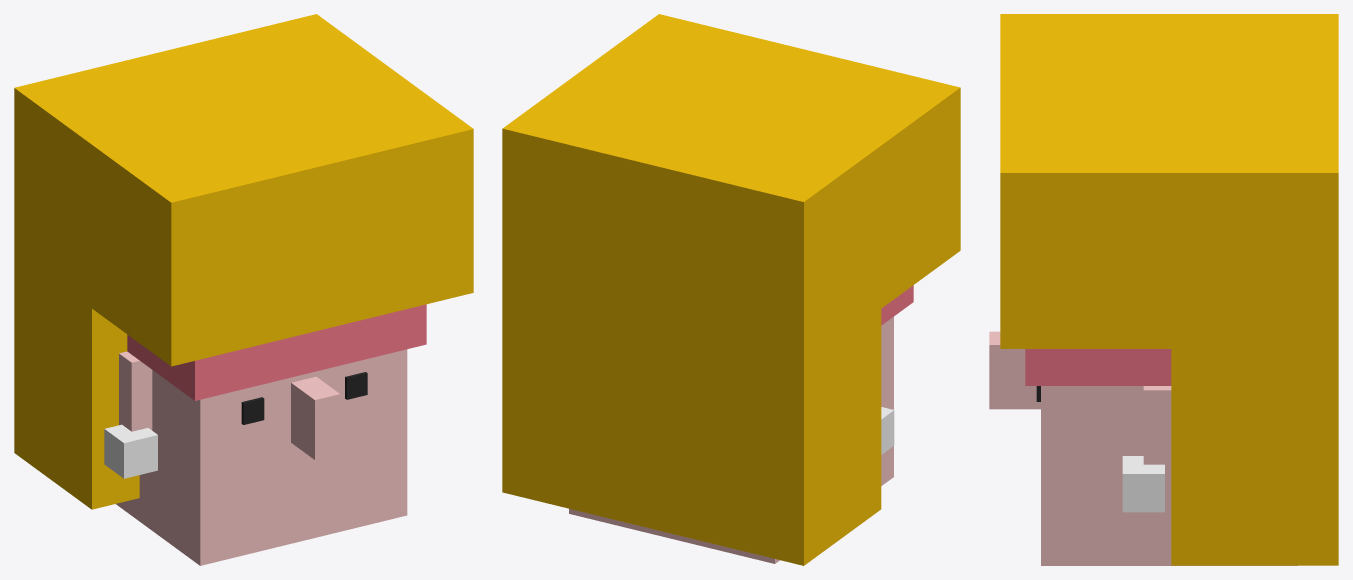
File: head05.fbx
The picture shows the model from 3 angles, left to right: view 1: azimuth 30°, elevation 25°; view 2: azimuth 150°, elevation 25°; view 3: azimuth 270°, elevation 25°; orthographic projection. The views are drawn at different scales.
Parts seen in each view (by area): view 1: Hair, Head, Headband, Nose, Earrings, Ears, Eyes; view 2: Hair, Head, Earrings, Headband; view 3: Hair, Head, Headband, Nose, Ears, Earrings.
Boxes of the visible parts, bbox=[...] form: Hair: bbox=[14, 14, 473, 509]; Head: bbox=[116, 349, 407, 565]; Headband: bbox=[127, 304, 426, 400]; Nose: bbox=[291, 376, 340, 459]; Earrings: bbox=[104, 424, 157, 478]; Ears: bbox=[119, 351, 152, 431]; Eyes: bbox=[241, 372, 367, 424]; Hair: bbox=[502, 14, 960, 565]; Head: bbox=[569, 317, 893, 563]; Earrings: bbox=[881, 407, 894, 454]; Headband: bbox=[881, 285, 913, 325]; Hair: bbox=[1000, 14, 1338, 565]; Head: bbox=[1041, 386, 1297, 565]; Headband: bbox=[1025, 349, 1171, 385]; Nose: bbox=[989, 331, 1040, 409]; Ears: bbox=[1143, 386, 1171, 483]; Earrings: bbox=[1122, 456, 1164, 512].
Size of the model in its own units: 44.46 by 54.58 by 41.29.
